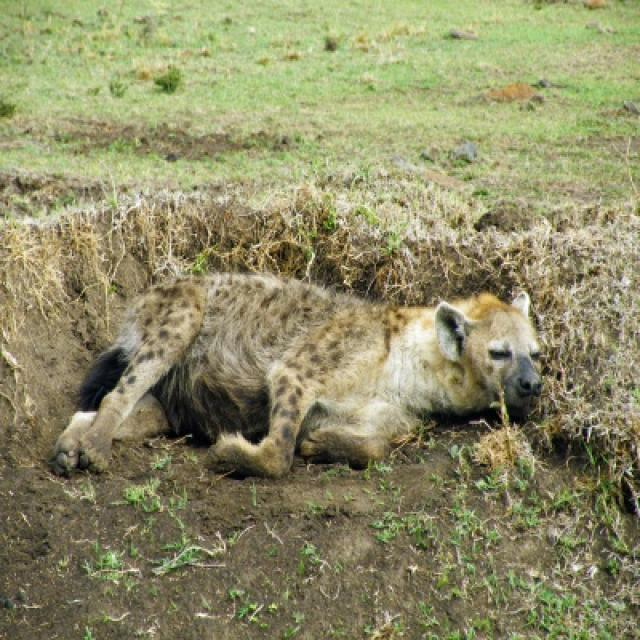hyena: (58, 274, 542, 482)
